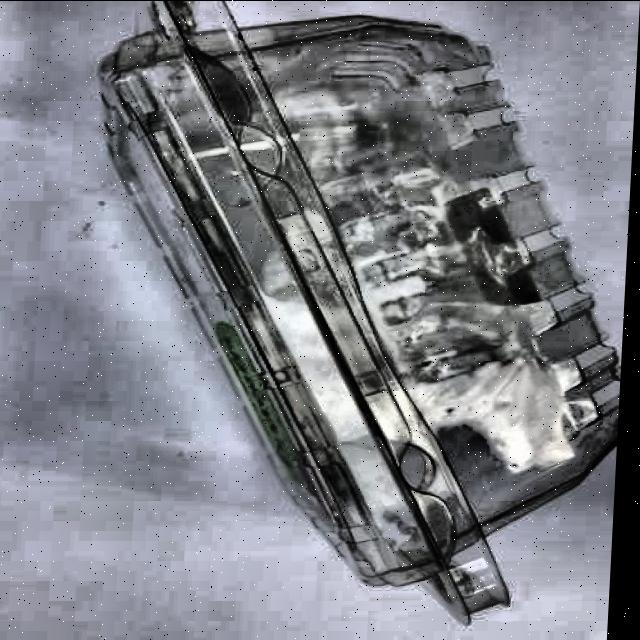plastic: (62, 0, 640, 628)
